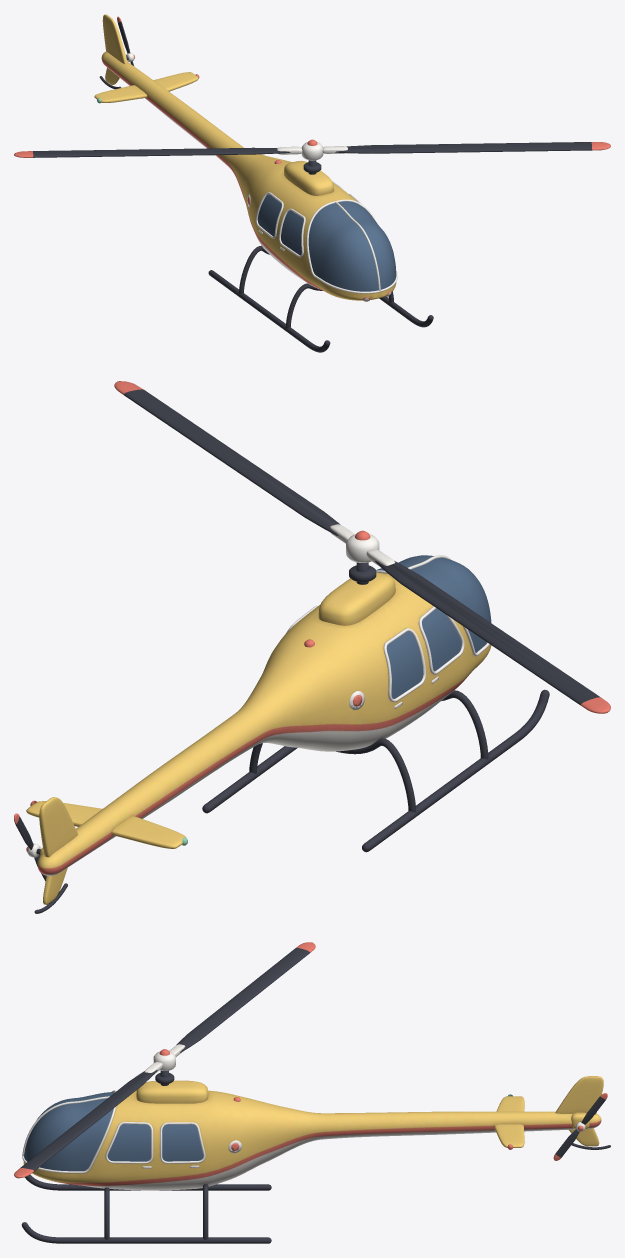
The model's file is veh_heli.glb.
The picture shows the model from 3 angles, top to bottom: view 1: azimuth 30°, elevation 25°; view 2: azimuth 150°, elevation 25°; view 3: azimuth 270°, elevation 25°; orthographic projection. The views are drawn at different scales.
Parts seen in each view (by area): view 1: helicopter_body, helicopter_windows, helicopter_main_rotor; view 2: helicopter_body, helicopter_main_rotor, helicopter_windows, helicopter_landing_lights; view 3: helicopter_body, helicopter_windows, helicopter_main_rotor, helicopter_landing_lights.
Boxes of the visible parts, x1,y1,x2,y2 form: helicopter_body: (94,14,433,352); helicopter_windows: (257,194,396,291); helicopter_main_rotor: (33,21,591,174); helicopter_body: (26,555,549,913); helicopter_main_rotor: (16,389,600,881); helicopter_windows: (376,555,491,698); helicopter_landing_lights: (14,381,610,852); helicopter_body: (21,1076,610,1243); helicopter_windows: (24,1092,203,1171); helicopter_main_rotor: (20,948,605,1171); helicopter_landing_lights: (14,942,607,1178).
Bounding box in the file's own units: 8.85 × 2.93 × 9.5.
8 materials, 1 textured.
